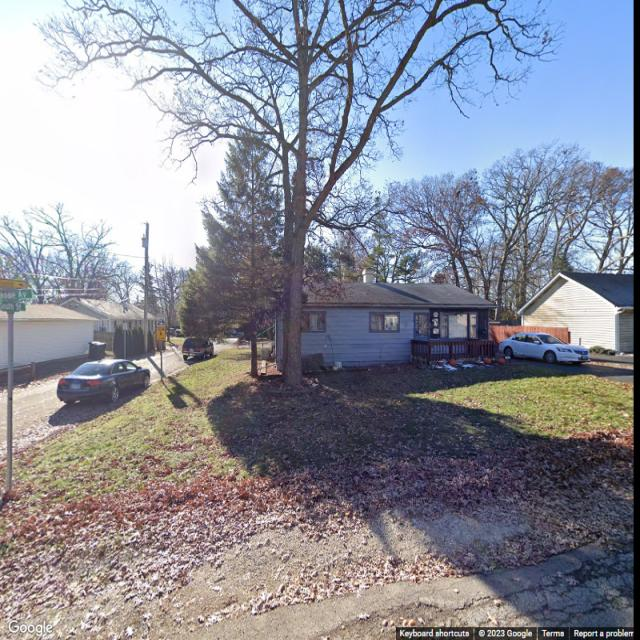House: (275, 266, 500, 370), (516, 274, 634, 356)
